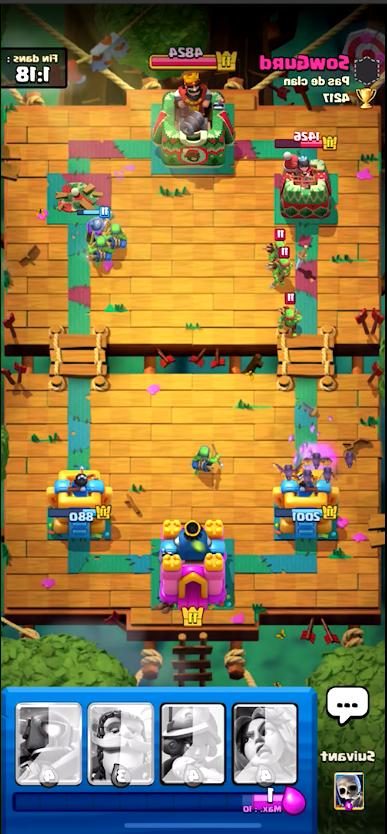bat: (272, 462, 304, 482), (300, 451, 332, 470), (321, 469, 334, 488), (345, 448, 356, 470)
gobelin_lances: (193, 442, 220, 473), (280, 293, 299, 328), (270, 252, 291, 283), (267, 226, 287, 256), (87, 241, 111, 265), (109, 222, 128, 250)
mousquetaire: (79, 205, 110, 236)
